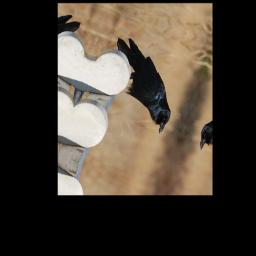Crow: (94, 33, 189, 136)
